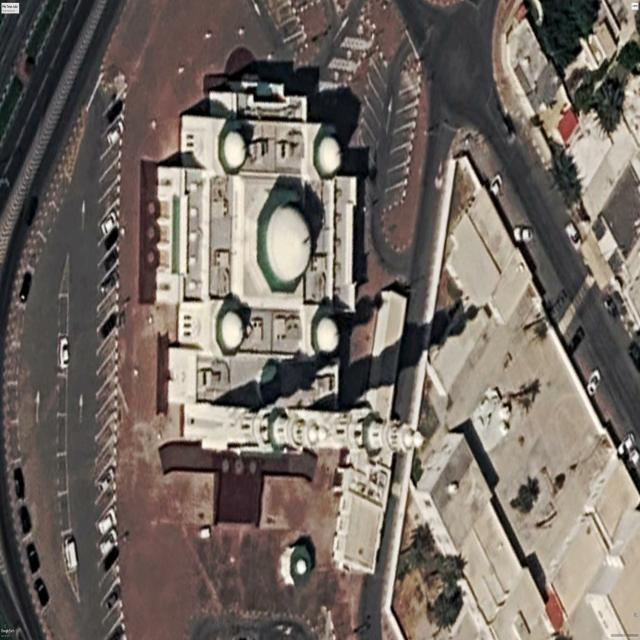Home: (157, 81, 422, 467)
